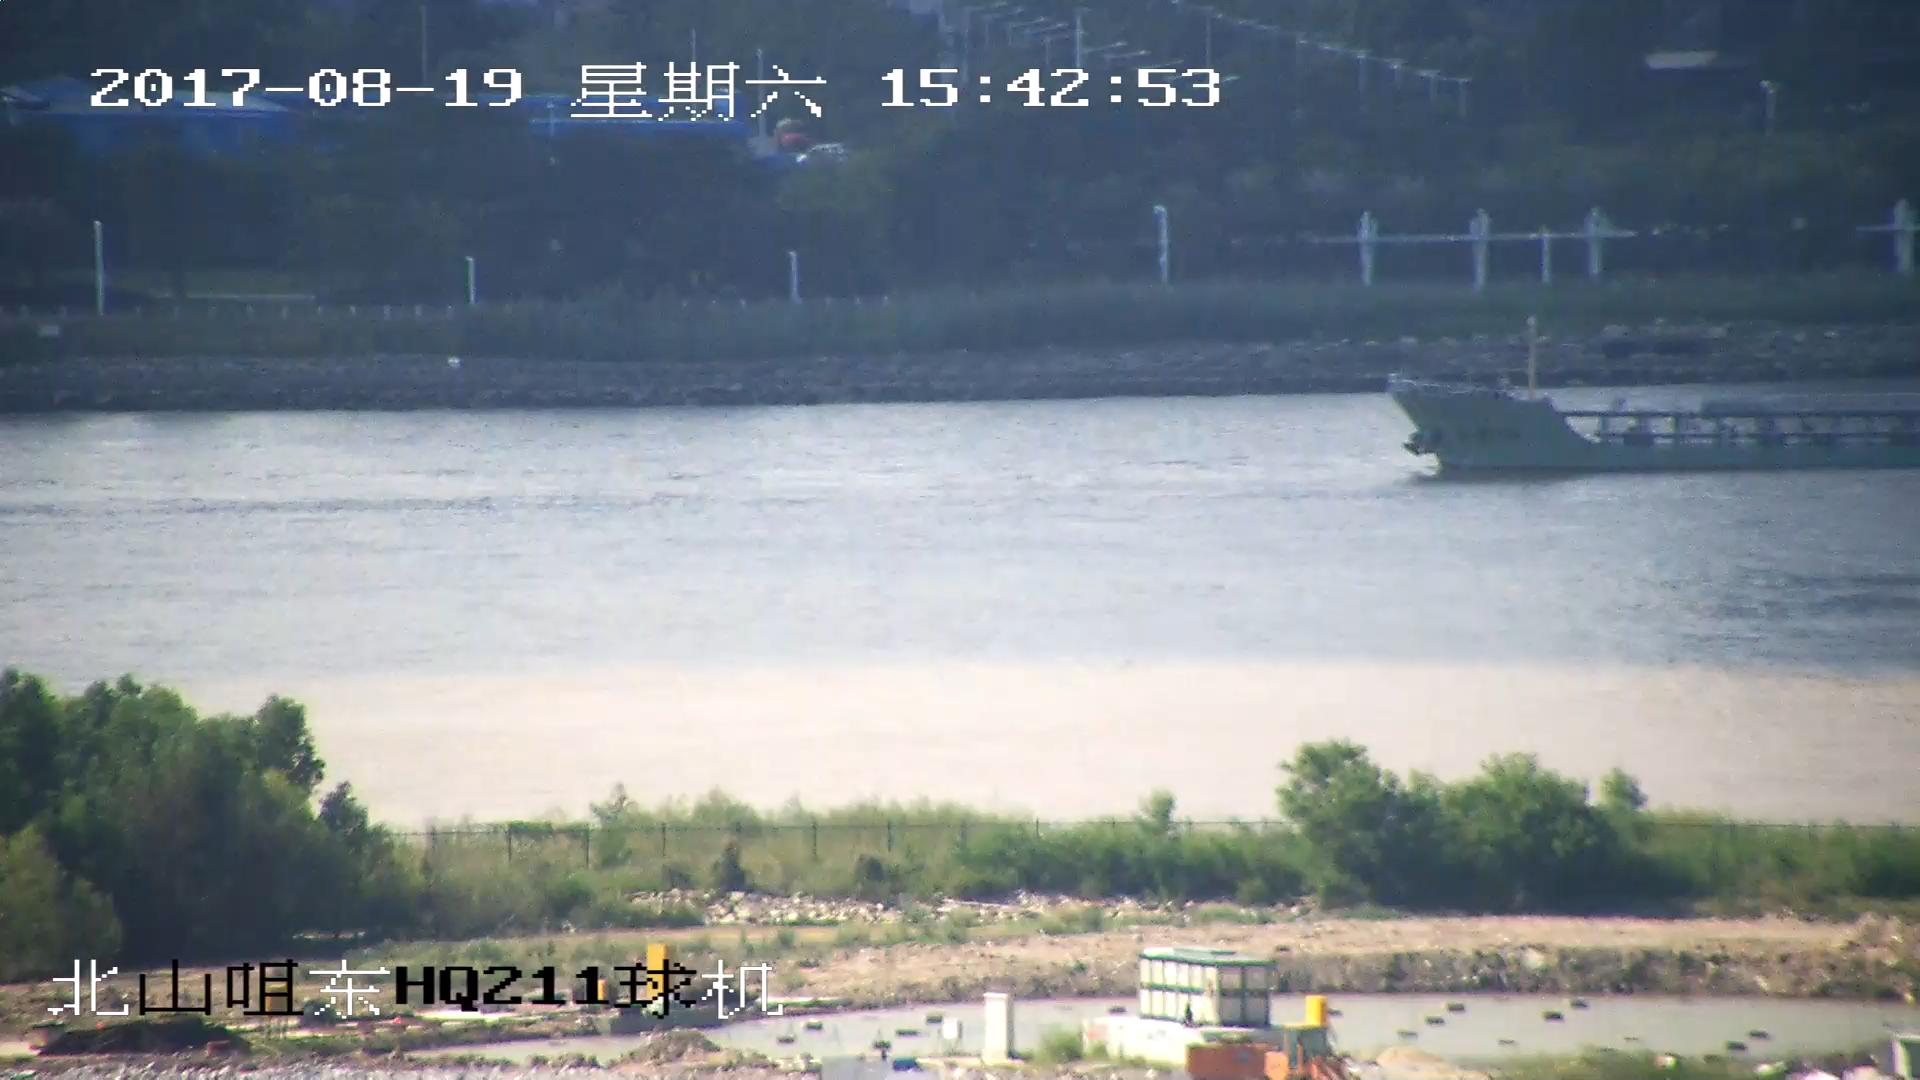general cargo ship: (1391, 375, 1920, 474)
